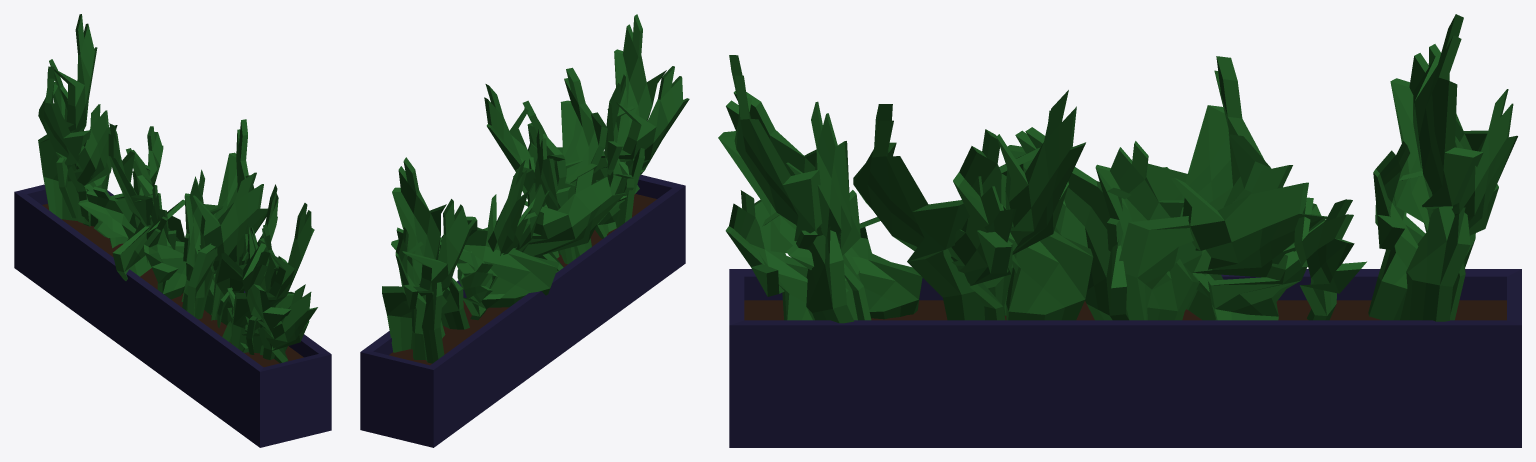
The model's file is plant2.fbx.
3 renders of one model, left to right at view 1: azimuth 30°, elevation 25°; view 2: azimuth 150°, elevation 25°; view 3: azimuth 270°, elevation 25°, orthographic. The views are drawn at different scales.
Visible parts, largest first — view 1: Cylinder.002; view 2: Cylinder.002; view 3: Cylinder.002.
Boxes of the visible parts, <box> form: Cylinder.002: <box>14,14,331,447</box>; Cylinder.002: <box>360,14,689,447</box>; Cylinder.002: <box>718,14,1521,447</box>.
Bounding box in the file's own units: 54.32 × 108 × 190.
